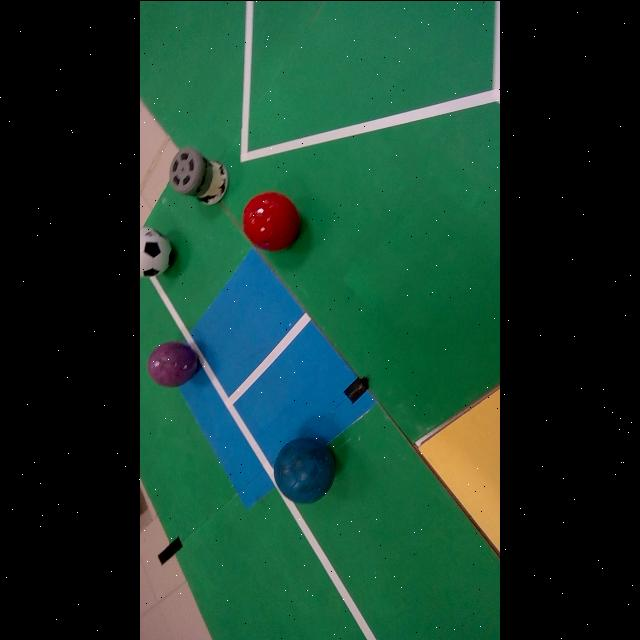B: (273, 437, 335, 502), (243, 190, 300, 251)
P: (148, 341, 198, 386)
